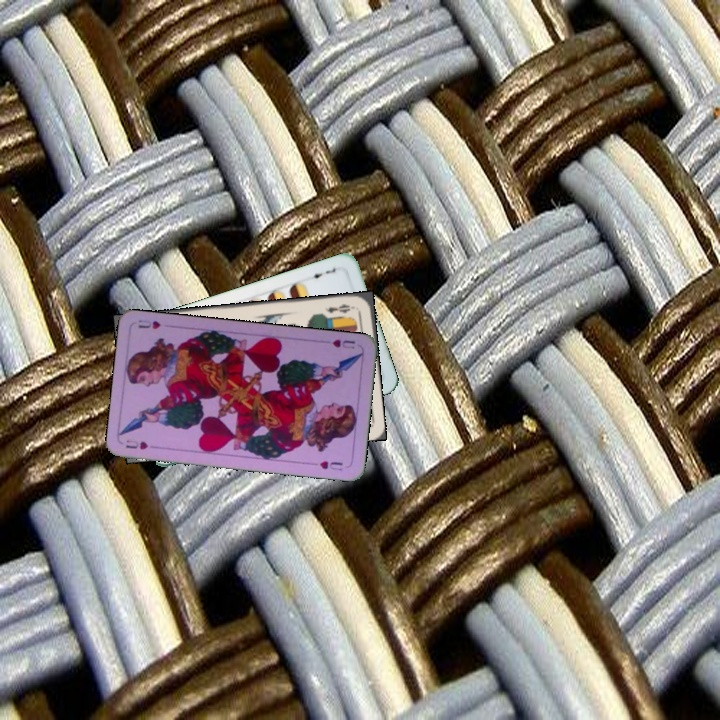E7: (305, 264, 338, 282)
EO: (321, 300, 357, 316)
HU: (122, 436, 161, 452), (328, 335, 358, 351)
